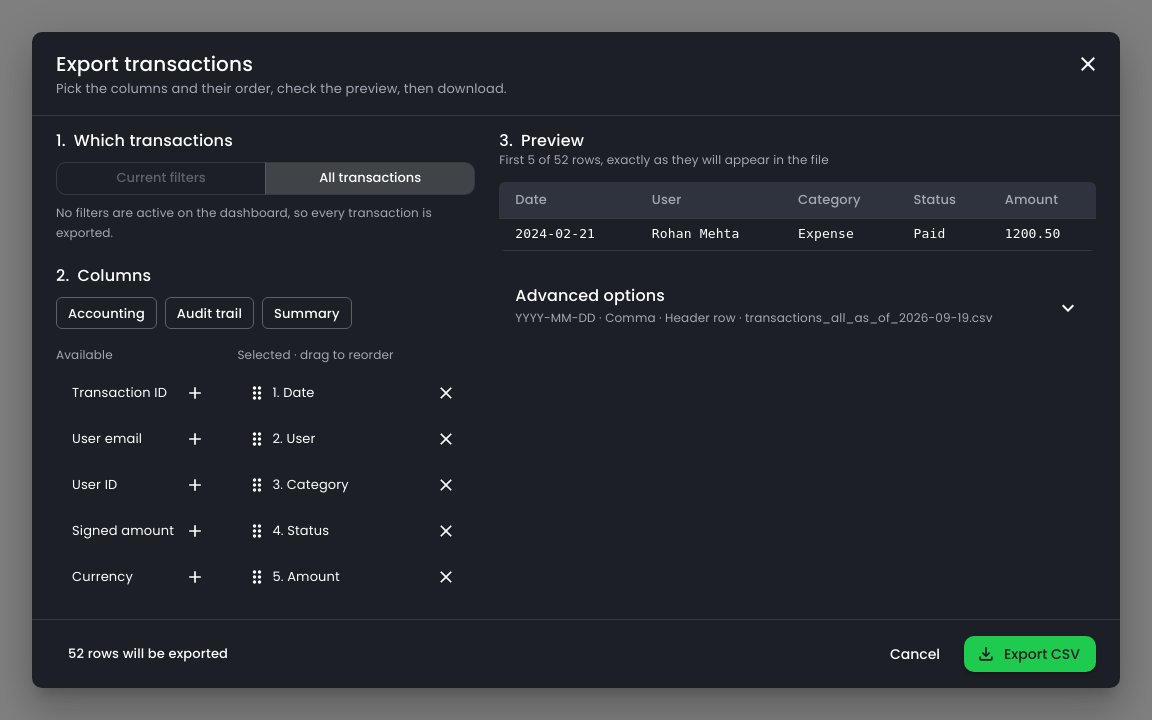
Test: ExportDialog › updates the preview when a preset and date format change
Check: the text "52 rows will be exported" is shown, box left=56, top=644, right=240, bottom=664
Click the button "Accounting".
click(106, 314)  # box left=56, top=298, right=157, bottom=330
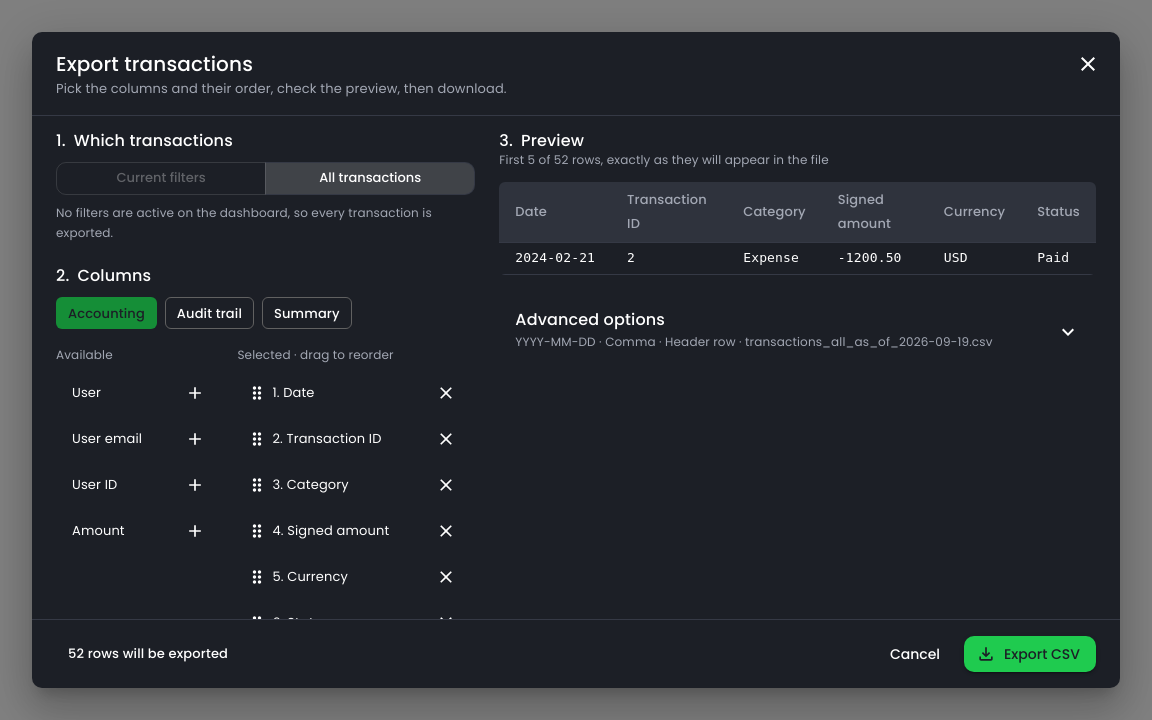
Check: the column heading "Signed amount" is shown, box left=822, top=182, right=928, bottom=243
Check: the text "-1200.50" is shown, box left=822, top=243, right=928, bottom=274
